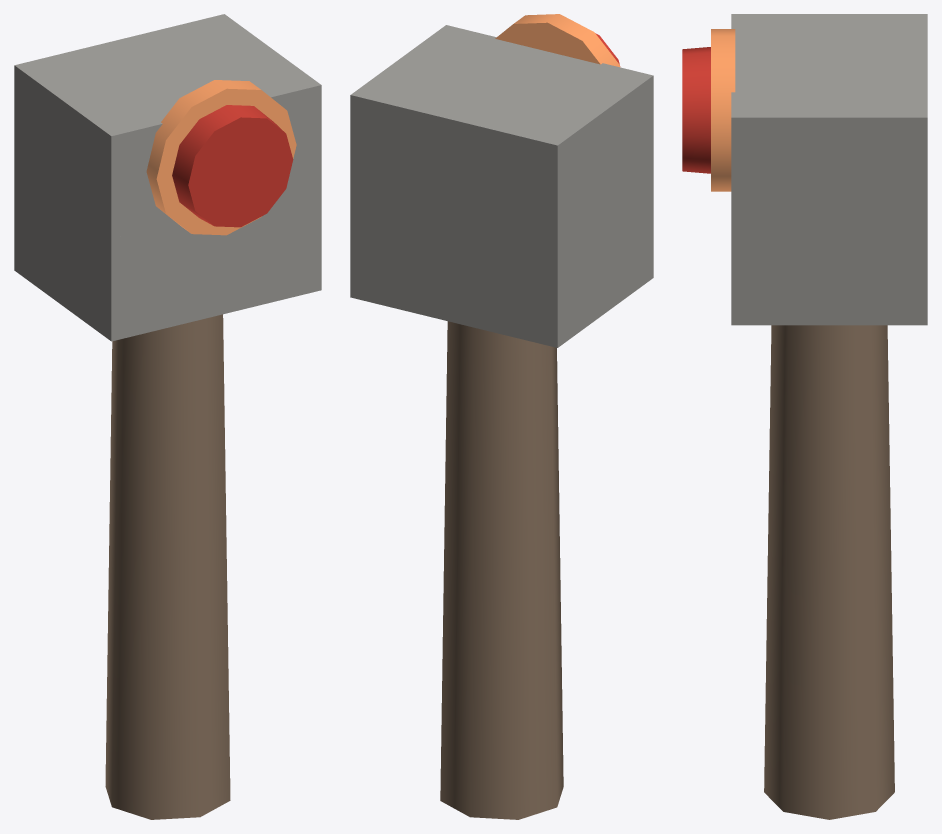
Rendered from build_button.glb.
The picture shows the model from 3 angles, left to right: view 1: azimuth 30°, elevation 25°; view 2: azimuth 150°, elevation 25°; view 3: azimuth 270°, elevation 25°; orthographic projection. The views are drawn at different scales.
Visible parts, largest first — view 1: Baked, _MeshInstance3D_237; view 2: Baked; view 3: Baked, _MeshInstance3D_237.
Part boxes in pixels (<box>): Baked: <box>14,14,321,819</box>; _MeshInstance3D_237: <box>172,105,293,227</box>; Baked: <box>350,14,653,819</box>; Baked: <box>711,14,927,819</box>; _MeshInstance3D_237: <box>682,47,710,173</box>.
Size of the model in its own units: 0.3 by 1.02 by 0.3.
